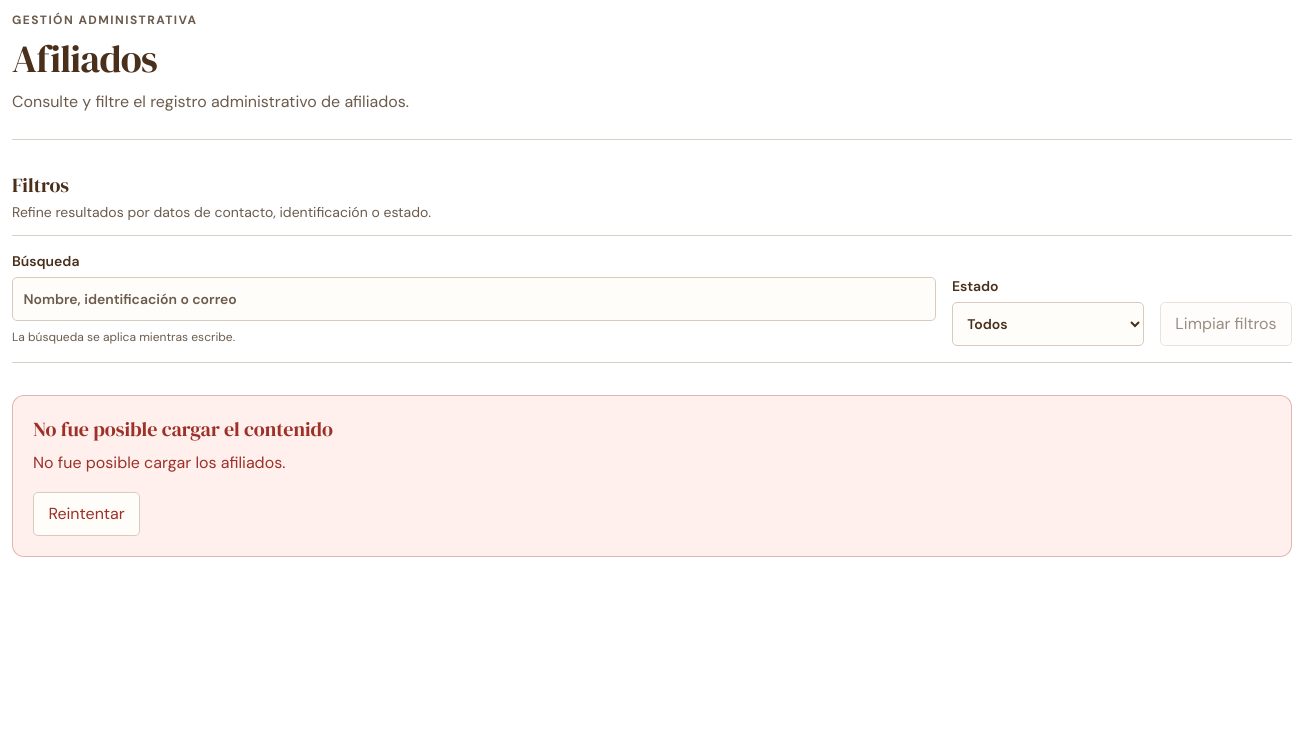
Test: AffiliatesPage › retries list loading after an error without real HTTP
Expected: the message shows "No fue posible cargar los afiliados.", left=33, top=452, right=285, bottom=473
Click the button "Reintentar".
click(87, 514)  # box left=33, top=492, right=140, bottom=536
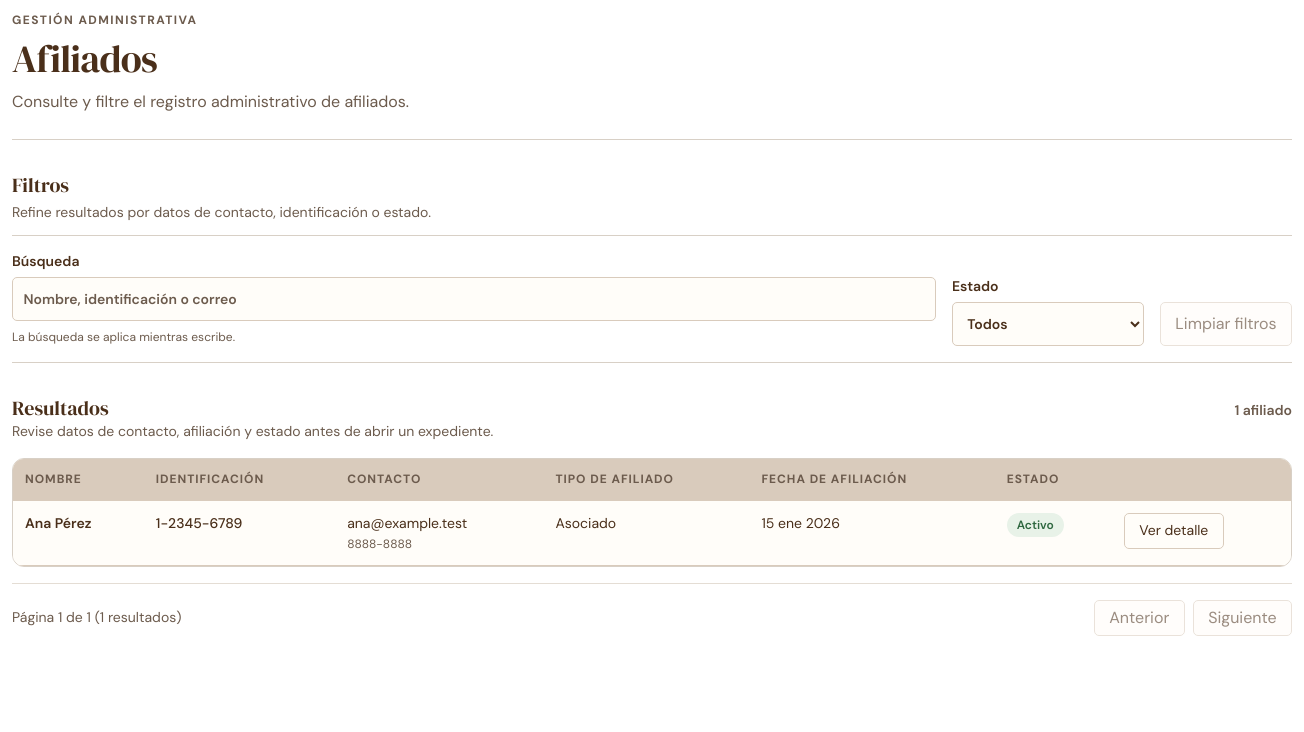
Expected: the text "Ana Pérez" is shown, left=13, top=501, right=144, bottom=565
